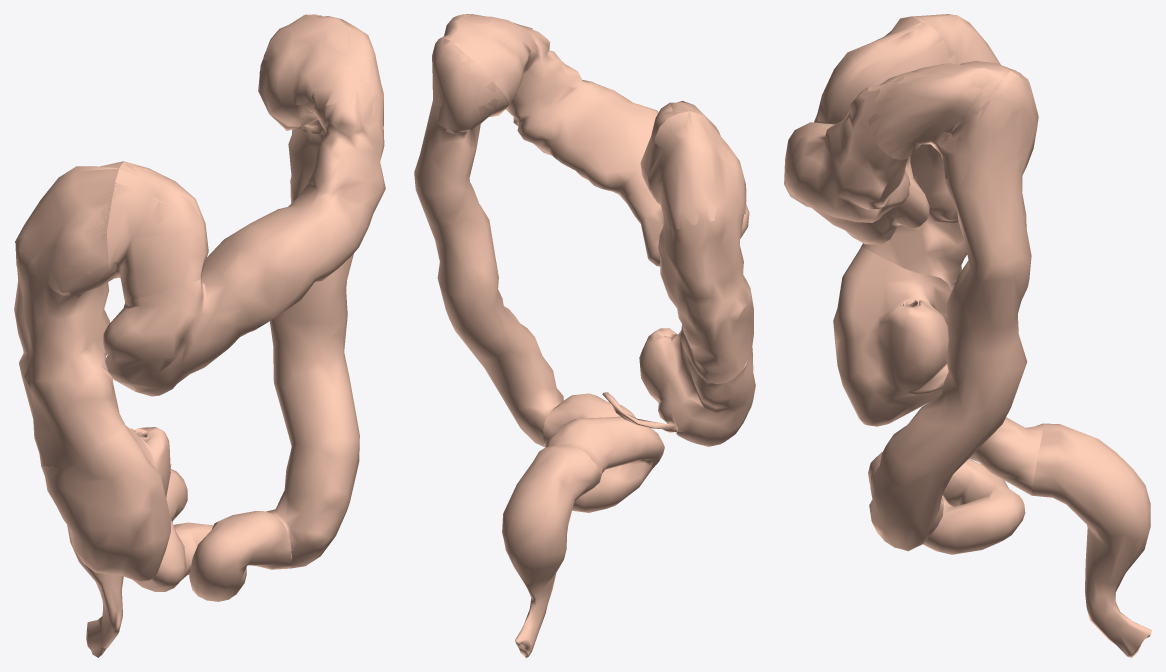
Rendered from sbu_m_intestine_large-40.glb.
3 renders of one model, left to right at view 1: azimuth 30°, elevation 25°; view 2: azimuth 150°, elevation 25°; view 3: azimuth 270°, elevation 25°, orthographic. The views are drawn at different scales.
Parts seen in each view (by area): view 1: VH_M_transverse_colon, VH_M_ascending_colon, VH_M_descending_colon, VH_M_caecum, VH_M_hepatic_flexure_of_colon, VH_M_sigmoid_colon, VH_M_splenic_flexure_of_colon, VH_M_rectum; view 2: VH_M_descending_colon, VH_M_ascending_colon, VH_M_transverse_colon, VH_M_rectum, VH_M_sigmoid_colon, VH_M_caecum, VH_M_splenic_flexure_of_colon, VH_M_hepatic_flexure_of_colon, VH_M_vermiform_appendix; view 3: VH_M_descending_colon, VH_M_transverse_colon, VH_M_caecum, VH_M_rectum, VH_M_sigmoid_colon, VH_M_splenic_flexure_of_colon, VH_M_ascending_colon, VH_M_hepatic_flexure_of_colon.
Part boxes in pixels (x1,y1,x2,y2): VH_M_transverse_colon: (103,14,385,396); VH_M_ascending_colon: (14,161,124,468); VH_M_descending_colon: (259,30,359,568); VH_M_caecum: (41,424,170,582); VH_M_hepatic_flexure_of_colon: (15,161,208,300); VH_M_sigmoid_colon: (133,469,291,601); VH_M_splenic_flexure_of_colon: (258,14,383,134); VH_M_rectum: (67,525,123,657); VH_M_descending_colon: (414,38,563,447); VH_M_ascending_colon: (648,111,753,384); VH_M_transverse_colon: (440,14,749,266); VH_M_rectum: (502,445,600,657); VH_M_sigmoid_colon: (543,393,664,512); VH_M_caecum: (639,328,755,446); VH_M_splenic_flexure_of_colon: (432,14,535,135); VH_M_hepatic_flexure_of_colon: (640,102,745,229); VH_M_vermiform_appendix: (602,392,677,432); VH_M_descending_colon: (869,70,1038,551); VH_M_transverse_colon: (784,16,1013,244); VH_M_caecum: (833,247,951,426); VH_M_rectum: (1031,423,1151,657); VH_M_sigmoid_colon: (868,417,1043,554); VH_M_splenic_flexure_of_colon: (868,61,1038,179); VH_M_ascending_colon: (860,14,995,290); VH_M_hepatic_flexure_of_colon: (817,15,1000,123).
Bounding box in the file's own units: 0.2592 × 0.4506 × 0.2246.
